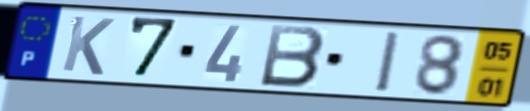4: (202, 24, 245, 84)
7: (128, 14, 180, 82)
8: (413, 32, 467, 98)
B: (256, 23, 329, 91)
I: (373, 29, 404, 95)
K: (58, 13, 118, 78)
